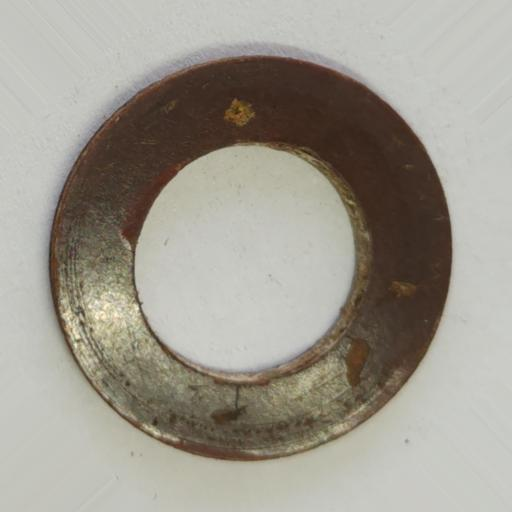defect: (224, 97, 256, 127), (389, 279, 419, 300)
